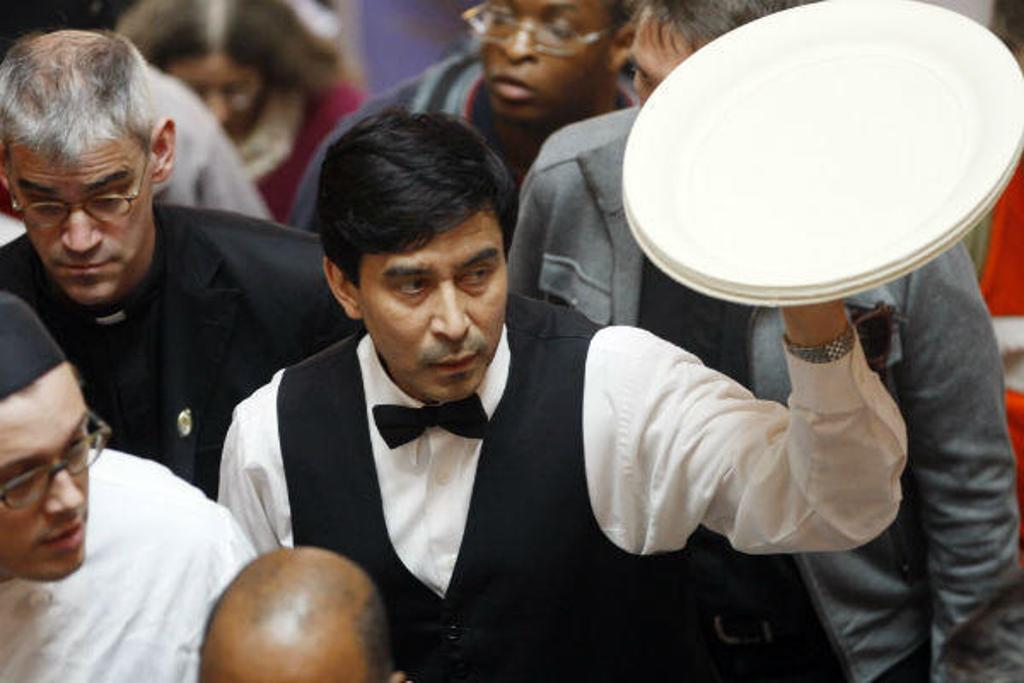face: (364, 196, 508, 404), (6, 128, 158, 300), (8, 362, 96, 580), (480, 6, 612, 126)
